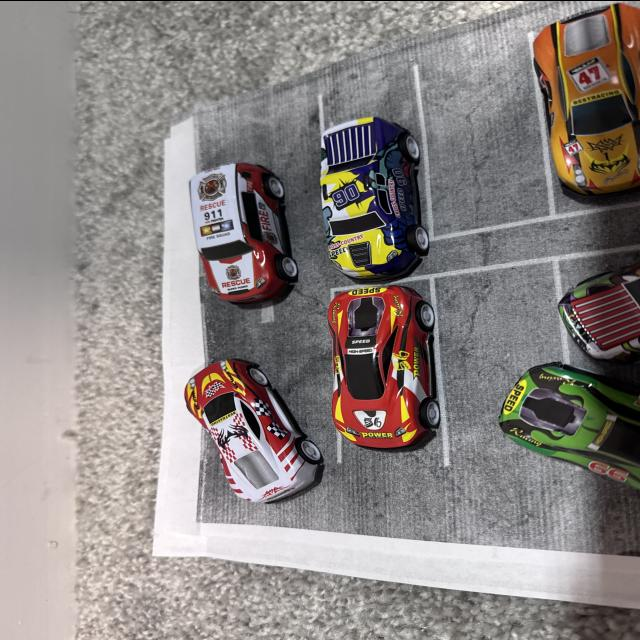car: (306, 39, 442, 290), (320, 288, 450, 476), (530, 1, 640, 203), (185, 360, 326, 504), (186, 164, 302, 304), (530, 224, 640, 358), (503, 393, 640, 490)
